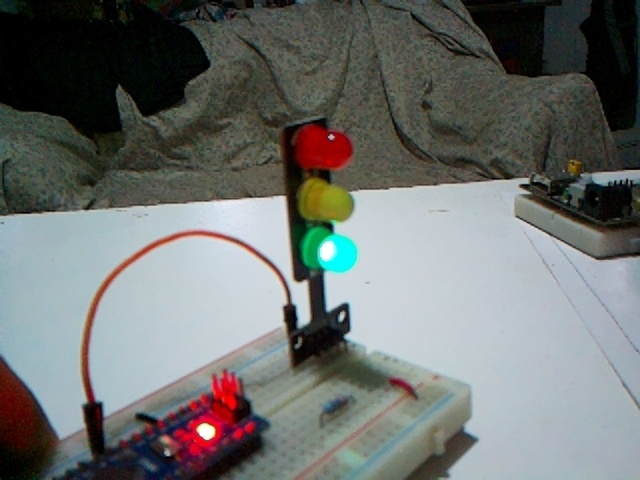traffic_light_green: (282, 119, 356, 365)
